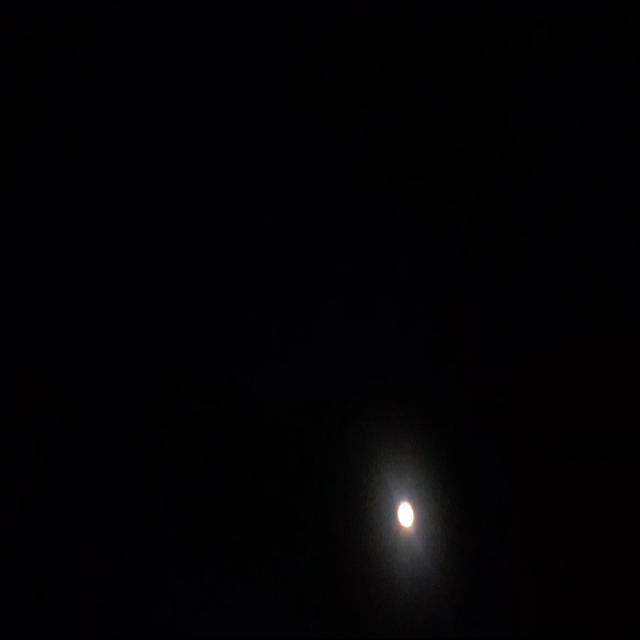moon: (390, 500, 413, 533)
